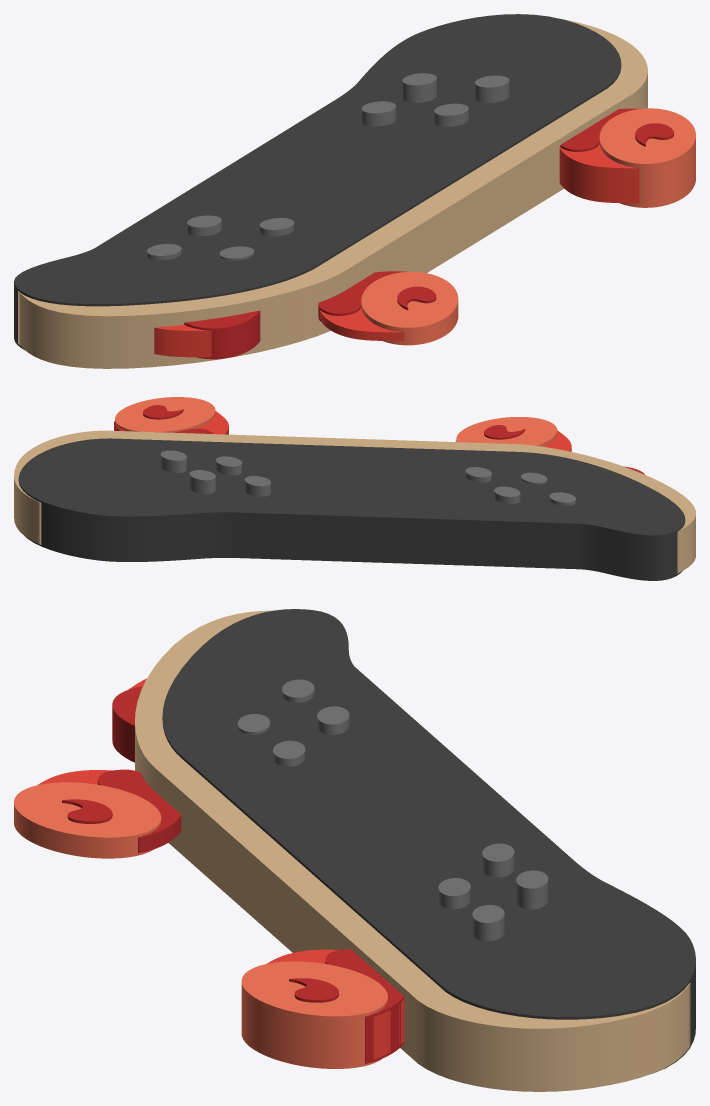
Rendered from emoji_u1f6f9.glb.
The picture shows the model from 3 angles, top to bottom: view 1: azimuth 30°, elevation 25°; view 2: azimuth 150°, elevation 25°; view 3: azimuth 270°, elevation 25°; orthographic projection. The views are drawn at different scales.
Visible parts, largest first — view 1: emoji_u1f6f9; view 2: emoji_u1f6f9; view 3: emoji_u1f6f9.
Boxes of the visible parts, x1=… form: emoji_u1f6f9: x1=14, y1=14, x2=695, y2=368; emoji_u1f6f9: x1=14, y1=397, x2=695, y2=580; emoji_u1f6f9: x1=14, y1=609, x2=695, y2=1091.
Size of the model in its own units: 0.0341 by 0.0042 by 0.0235.
